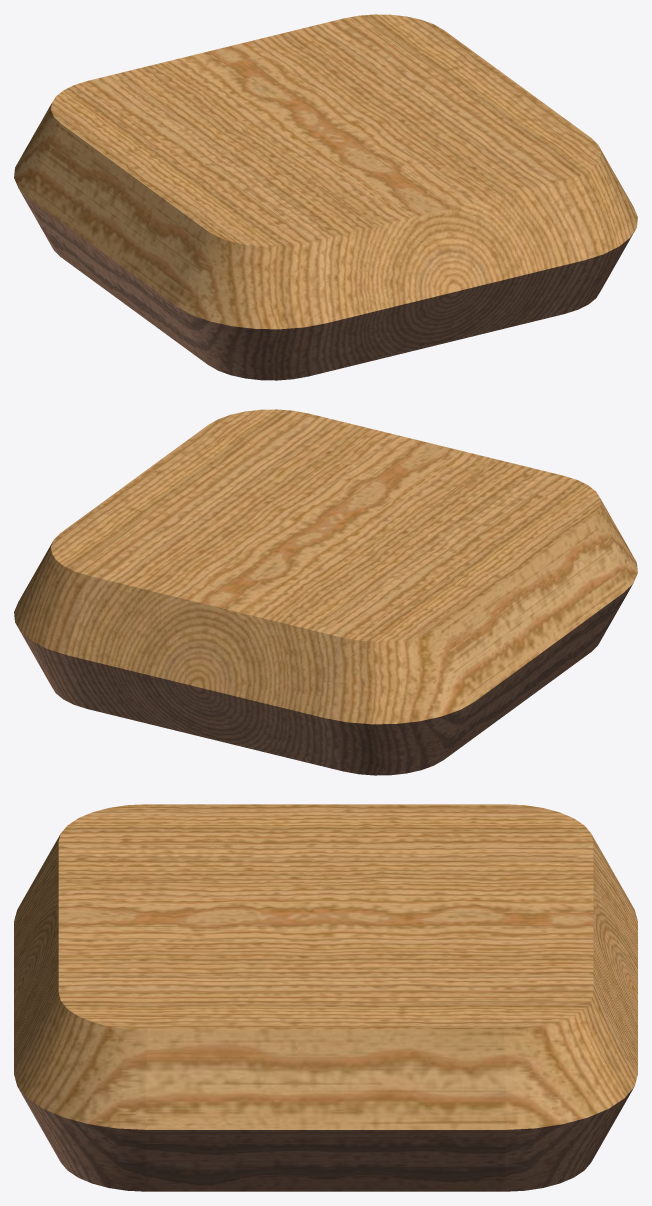
The model's file is animation.glb.
3 views of the same model, one above another, from view 1: azimuth 30°, elevation 25°; view 2: azimuth 150°, elevation 25°; view 3: azimuth 270°, elevation 25° (orthographic). The views are drawn at different scales.
Parts seen in each view (by area): view 1: Rectangle0001, Rectangle1001; view 2: Rectangle0001, Rectangle1001; view 3: Rectangle0001, Rectangle1001.
Part boxes in pixels (bbox=[...]): Rectangle0001: bbox=[14, 14, 637, 329]; Rectangle1001: bbox=[19, 189, 634, 380]; Rectangle0001: bbox=[14, 409, 637, 724]; Rectangle1001: bbox=[17, 584, 632, 775]; Rectangle0001: bbox=[14, 804, 637, 1129]; Rectangle1001: bbox=[18, 1087, 633, 1191].
Bounding box in the file's own units: 7.68 × 2.2 × 7.68.
Materials: 2 (2 with a texture image).
